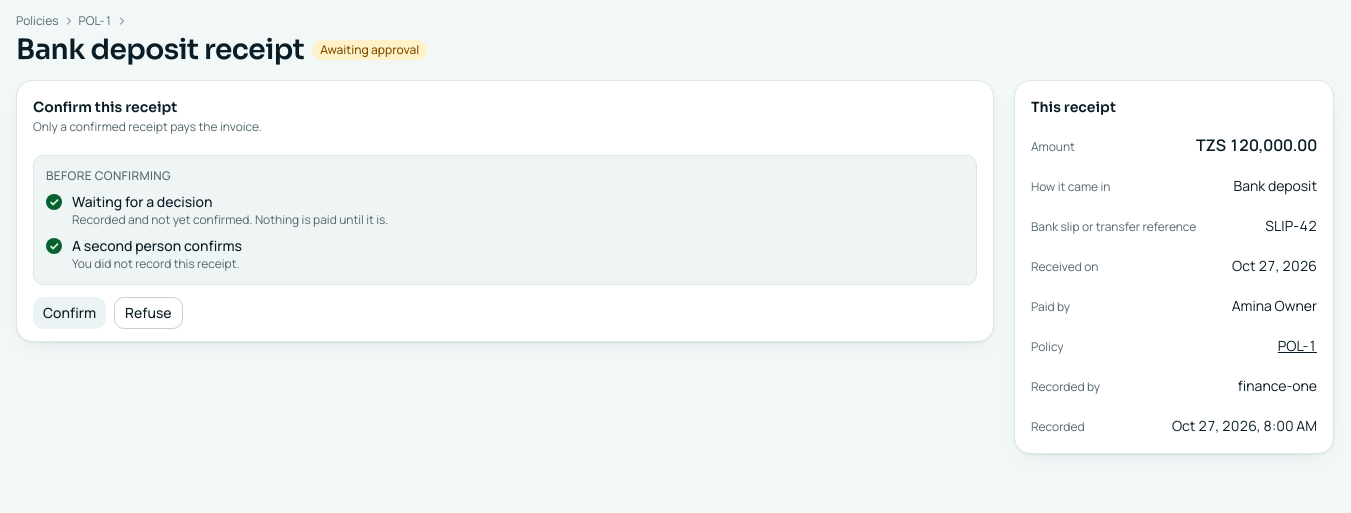
ReceiptPage › lets a finance officer confirm it, and shows the outcome the server gives
Click the button "Confirm" at [70, 313], box [33,297,106,329]
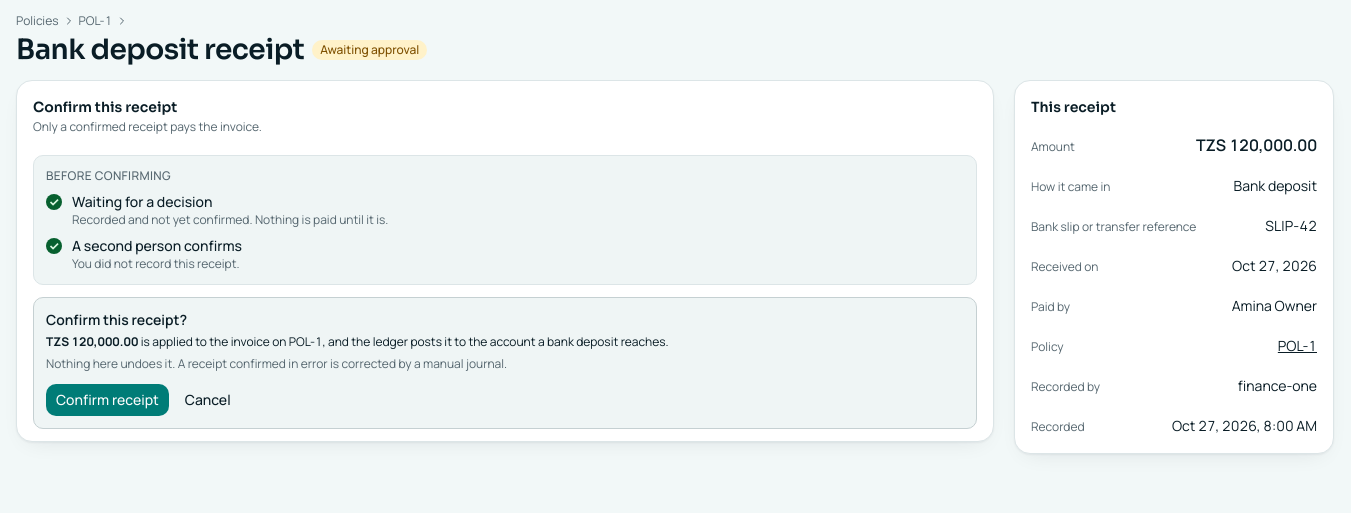
Click the button "Confirm receipt" at [107, 400], box [46,384,169,416]
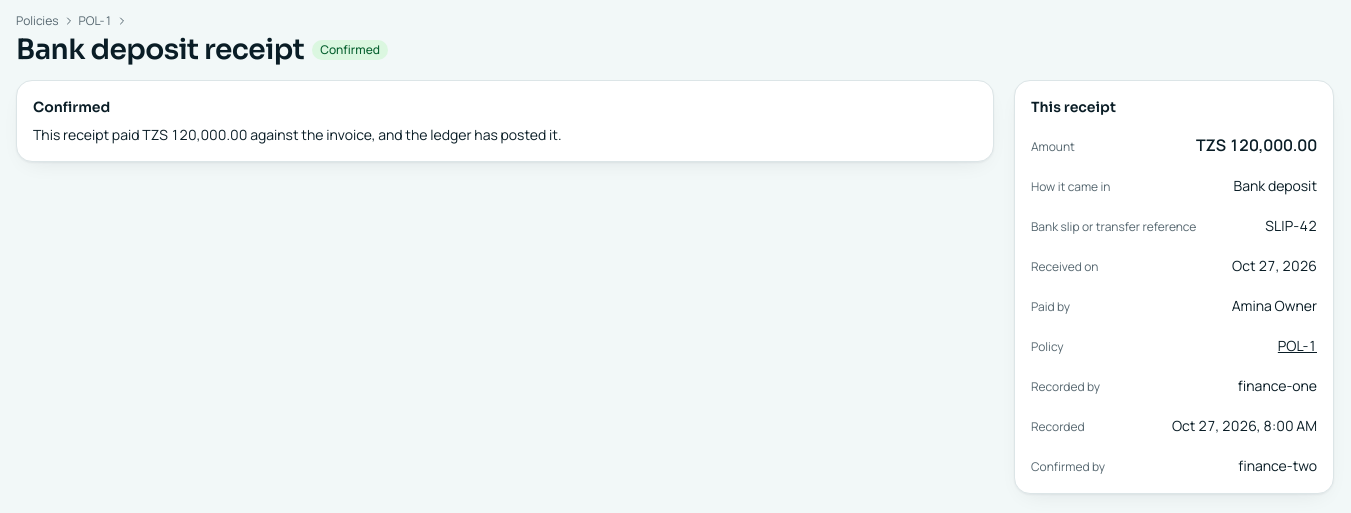
Now the heading "Confirmed" is shown, box [33,97,110,117]
